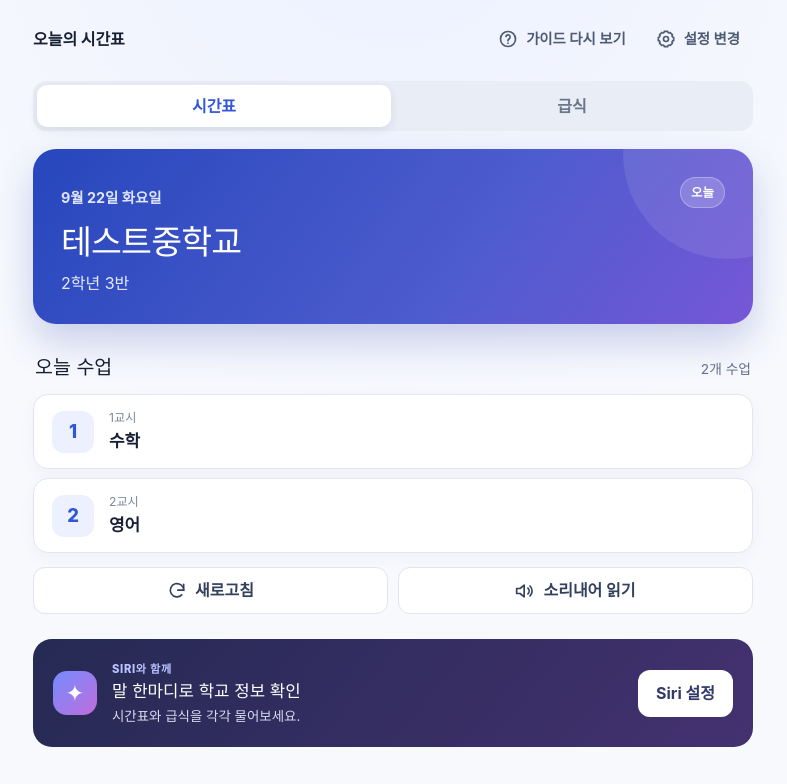
it: HomePage › lets the student reopen the onboarding guide from the timetable header
Click the button "가이드 다시 보기" at (562, 39), box [485, 16, 639, 62]
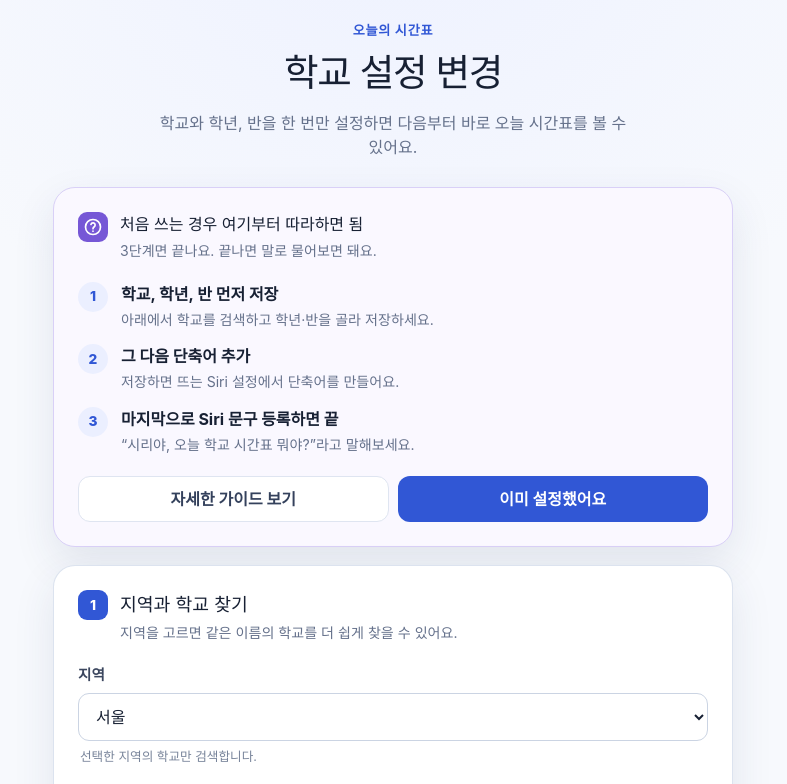
Expected: the heading "처음 쓰는 경우 여기부터 따라하면 됨" is shown, [120, 212, 377, 237]
